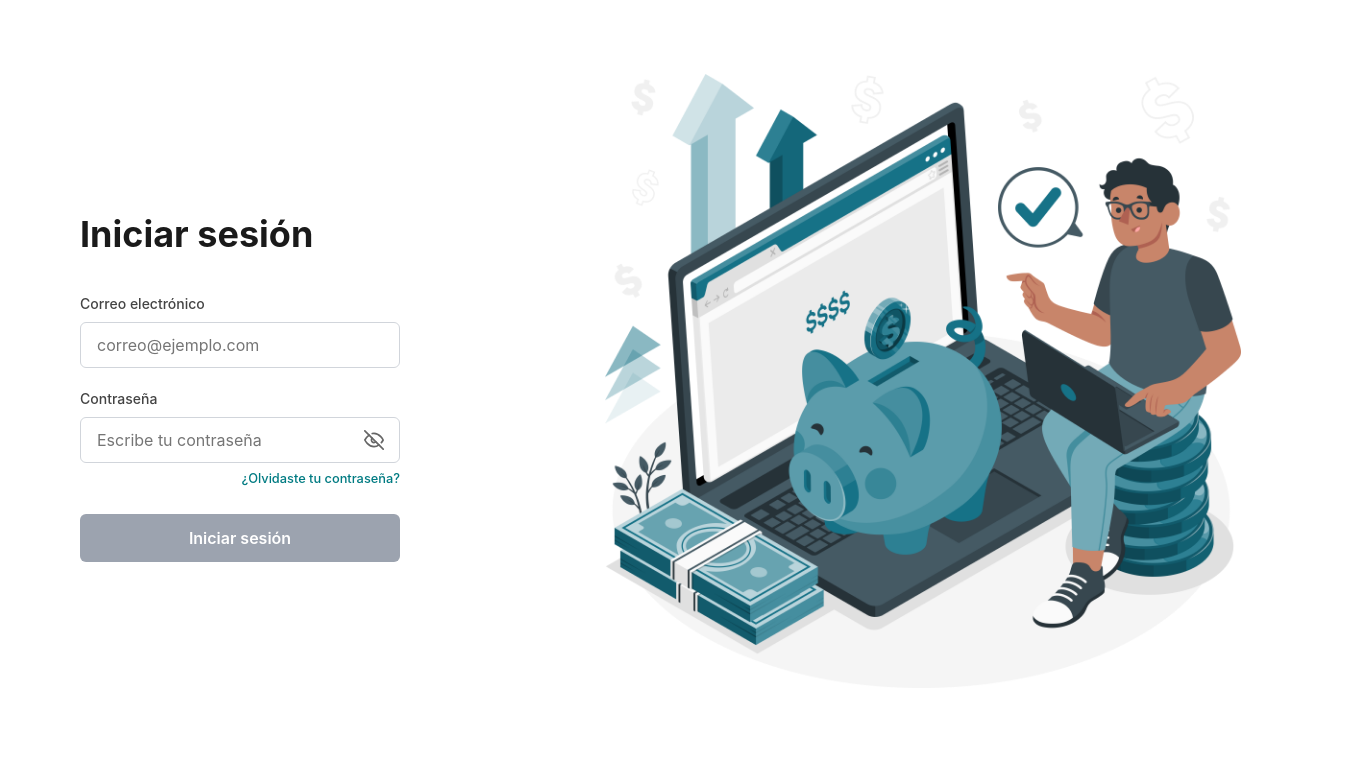
it: LoginPage › enables submit button when both fields are filled
Step 1. Type "demo@vitawallet.io" into the field labelled "Correo electrónico" → (240, 344), box [80,322,400,368]
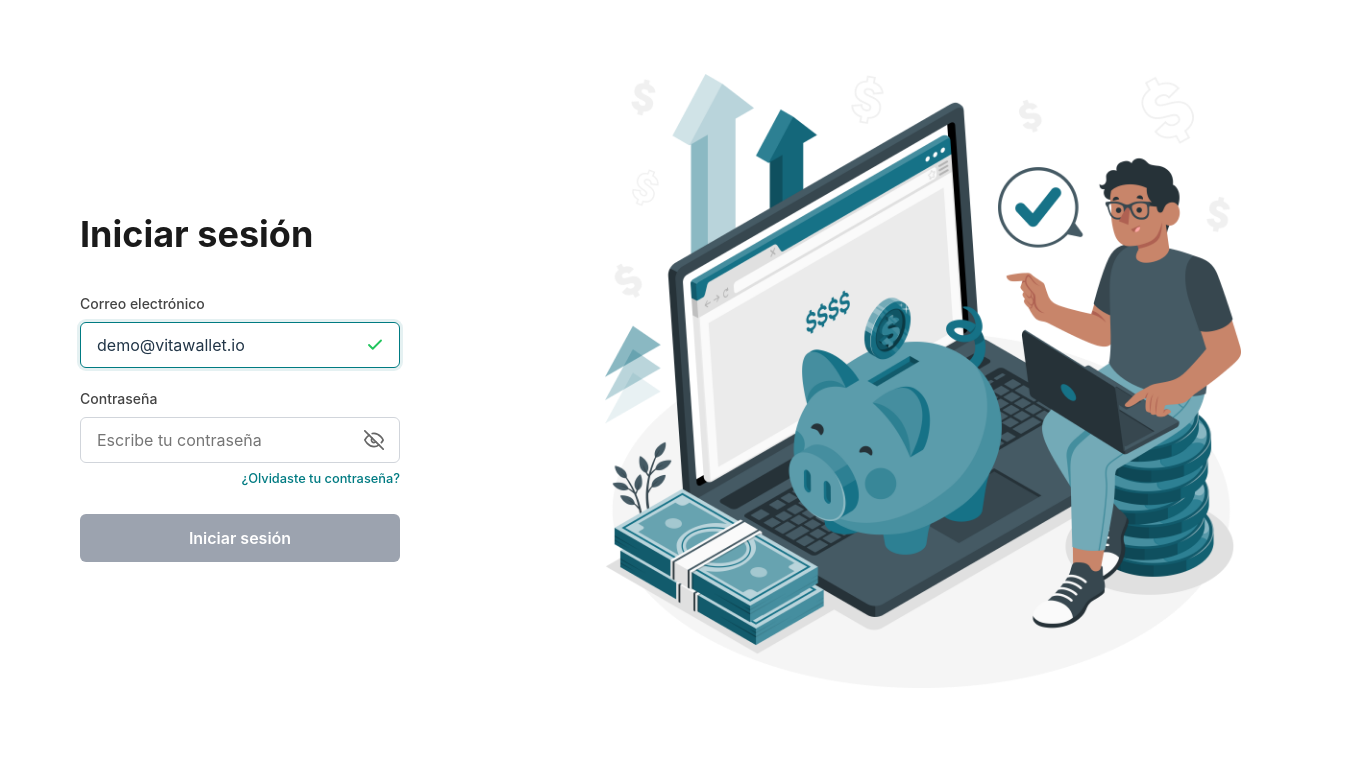
Step 2. Type "password123" into the password field with placeholder "Escribe tu contraseña" → (240, 440), box [80,416,400,462]
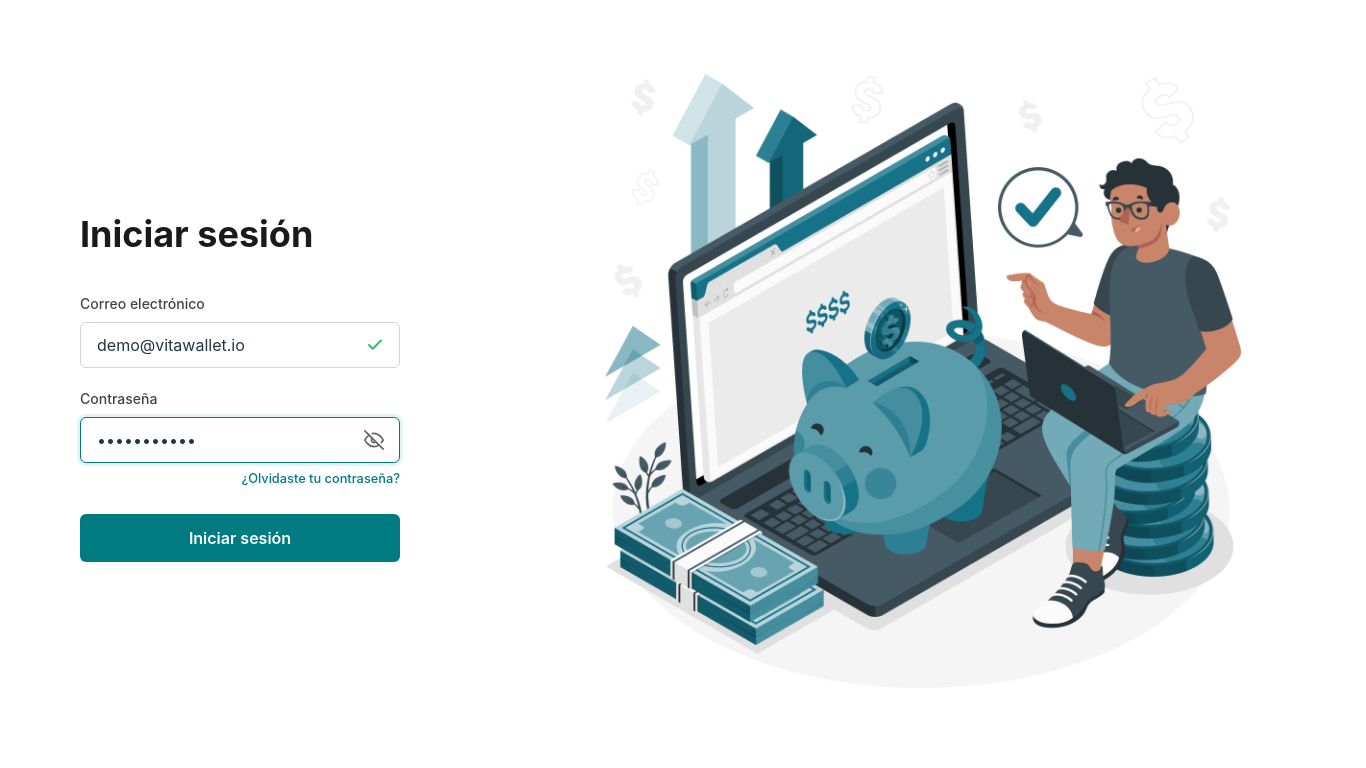
Expected: the button "Iniciar sesión" is enabled, [80,514,400,562]
